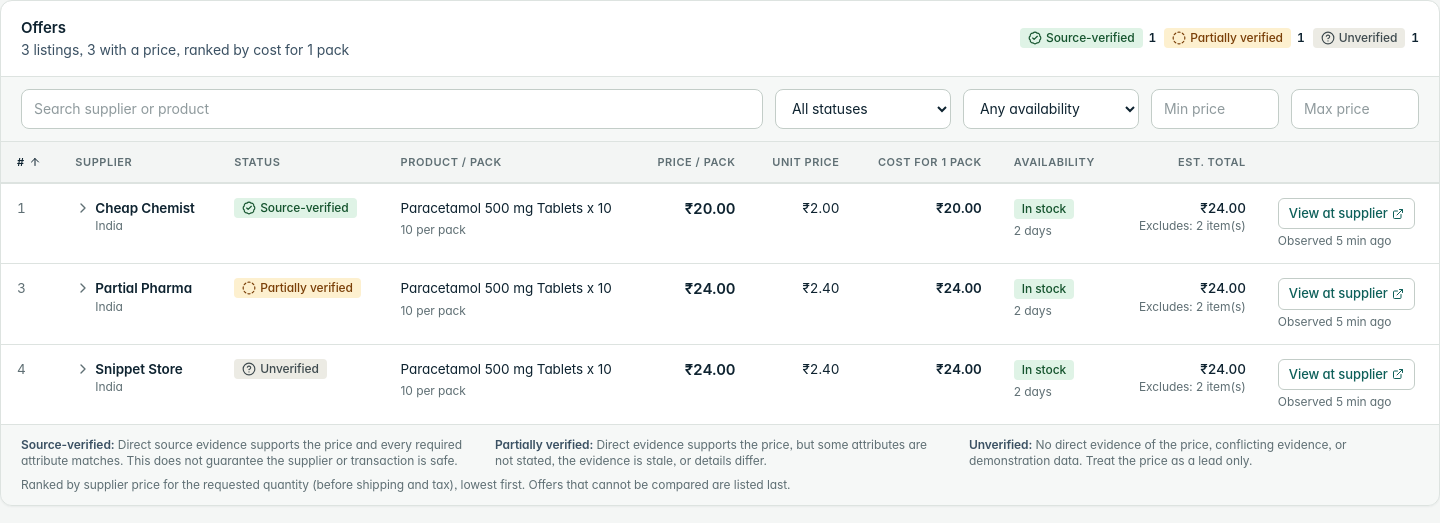
Test case: OffersSection › filters by status
Select "Unverified (1)" in the dropdown named "Status". click: (863, 108)
box: [775, 88, 951, 128]
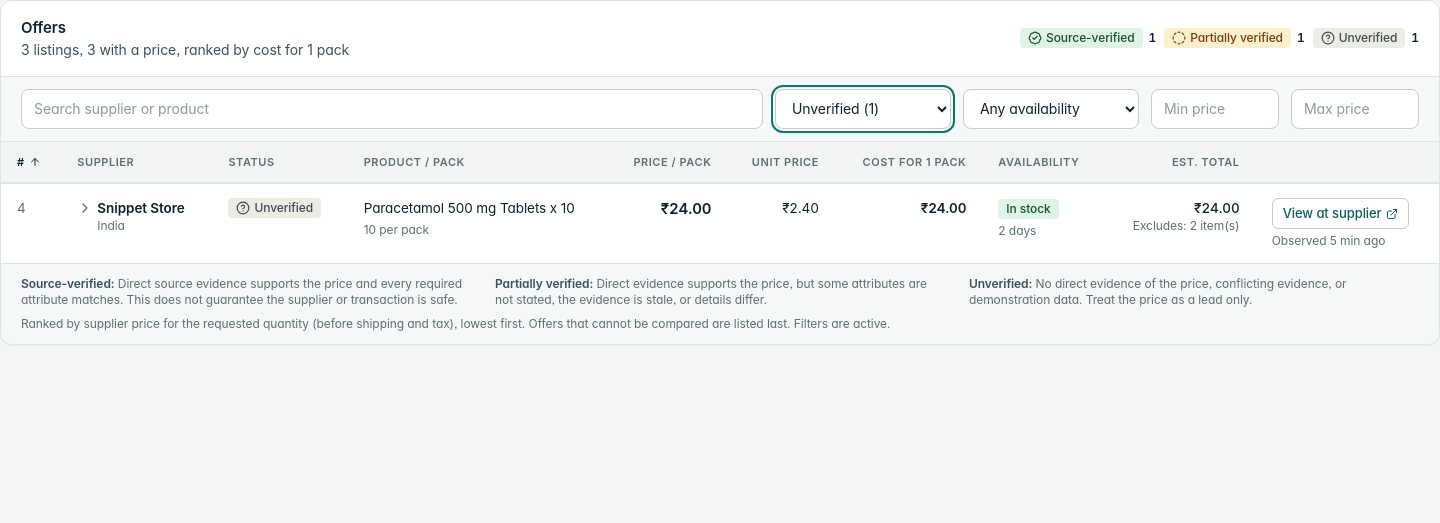
Expected: the text "Snippet Store" is shown, [97, 200, 185, 216]
Result: the button "Cheap Chemist" is gone
Result: the button "Partial Pharma" is gone
